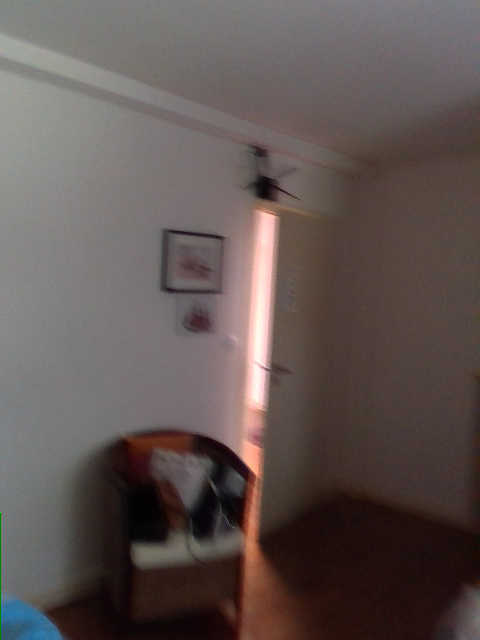semi: (233, 200, 333, 538)
